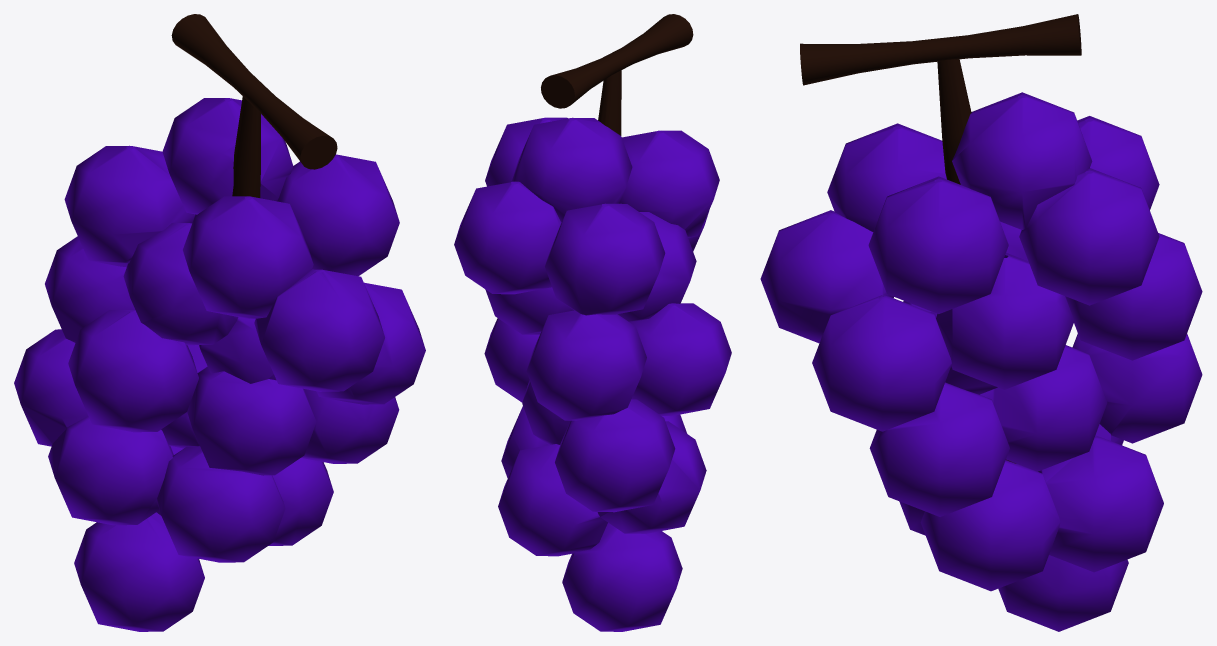
Rendered from grape.fbx.
3 renders of one model, left to right at view 1: azimuth 30°, elevation 25°; view 2: azimuth 150°, elevation 25°; view 3: azimuth 270°, elevation 25°, orthographic. The views are drawn at different scales.
Visible parts, largest first — view 1: Cylinder022; view 2: Cylinder022; view 3: Cylinder022.
Boxes of the visible parts, bbox=[...] form: Cylinder022: bbox=[14, 14, 425, 631]; Cylinder022: bbox=[454, 14, 731, 631]; Cylinder022: bbox=[760, 14, 1202, 631].
Size of the model in its own units: 496 by 986 by 613.
